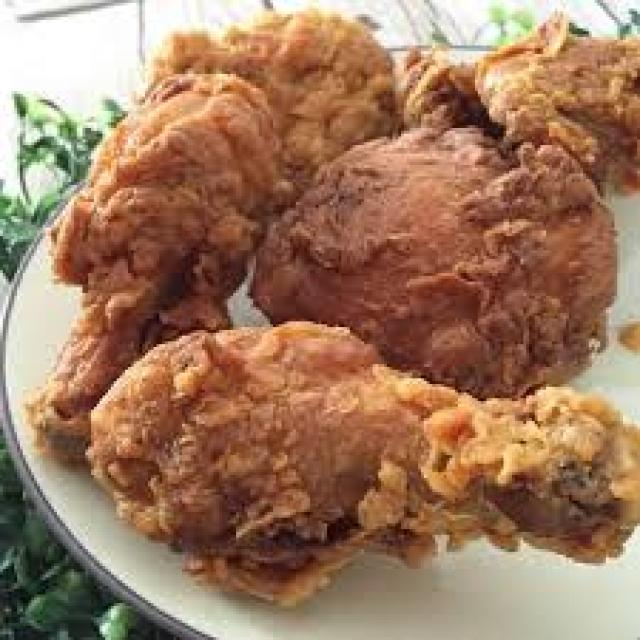Frango: (91, 324, 637, 598), (142, 26, 640, 230), (31, 71, 279, 458), (248, 131, 618, 387)
